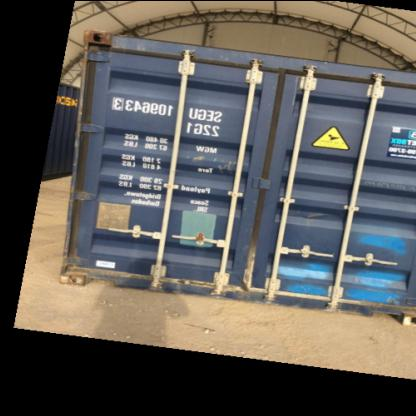Damage: (58, 258, 166, 286), (242, 239, 266, 295)
